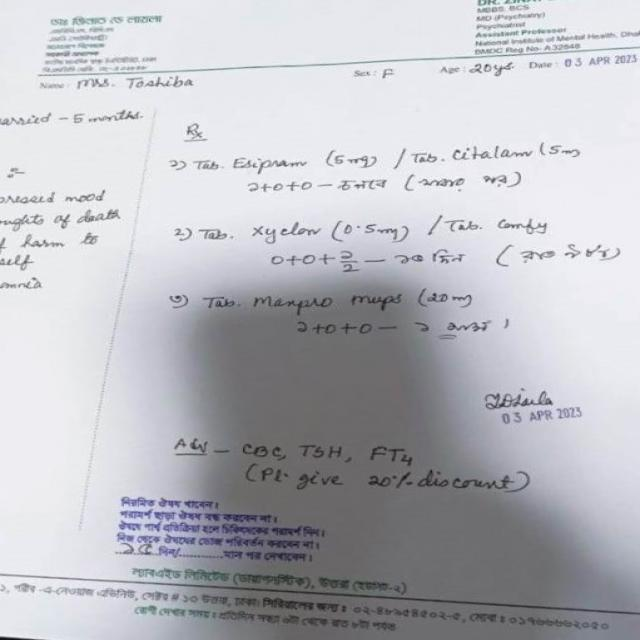Esipram: (225, 151, 319, 177)
Maxpro Mups: (245, 285, 410, 317)
Xyclon: (243, 217, 323, 248)
